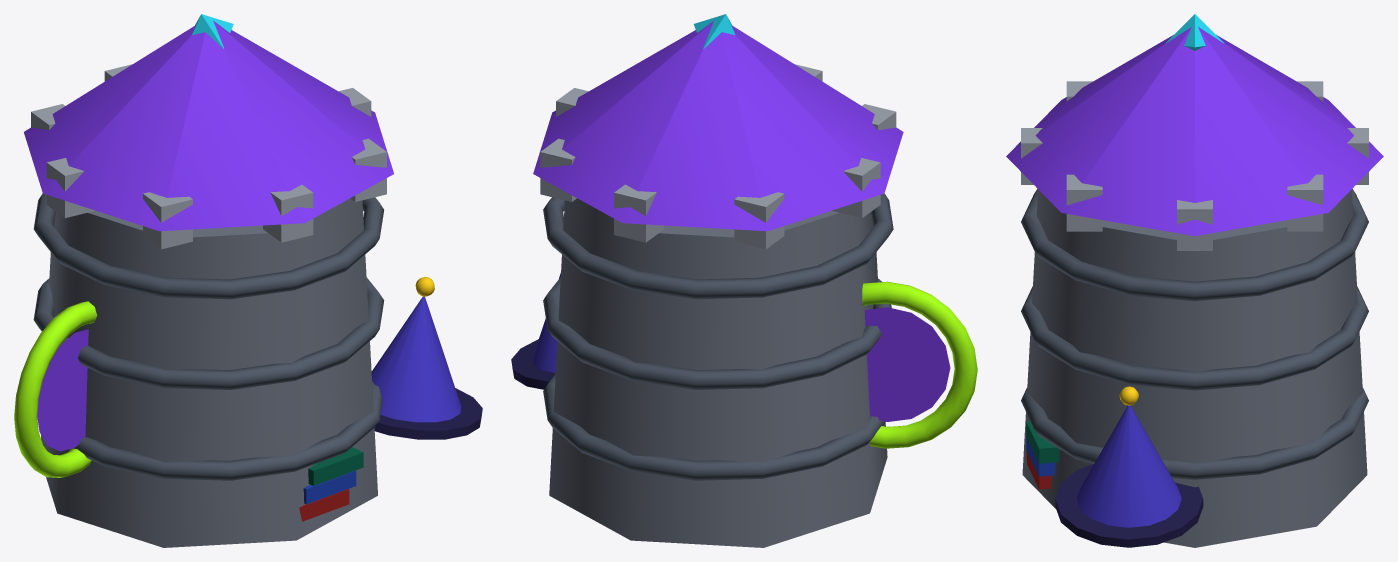
The model's file is guild_bau.glb.
3 renders of one model, left to right at view 1: azimuth 30°, elevation 25°; view 2: azimuth 150°, elevation 25°; view 3: azimuth 270°, elevation 25°, orthographic.
Visible parts, largest first — view 1: guild_bau; view 2: guild_bau; view 3: guild_bau.
Boxes of the visible parts, x1,y1,x2,y2 form: guild_bau: (14,14,482,547); guild_bau: (511,14,977,547); guild_bau: (1006,14,1383,547).
Size of the model in its own units: 3.16 by 3.07 by 2.3.
